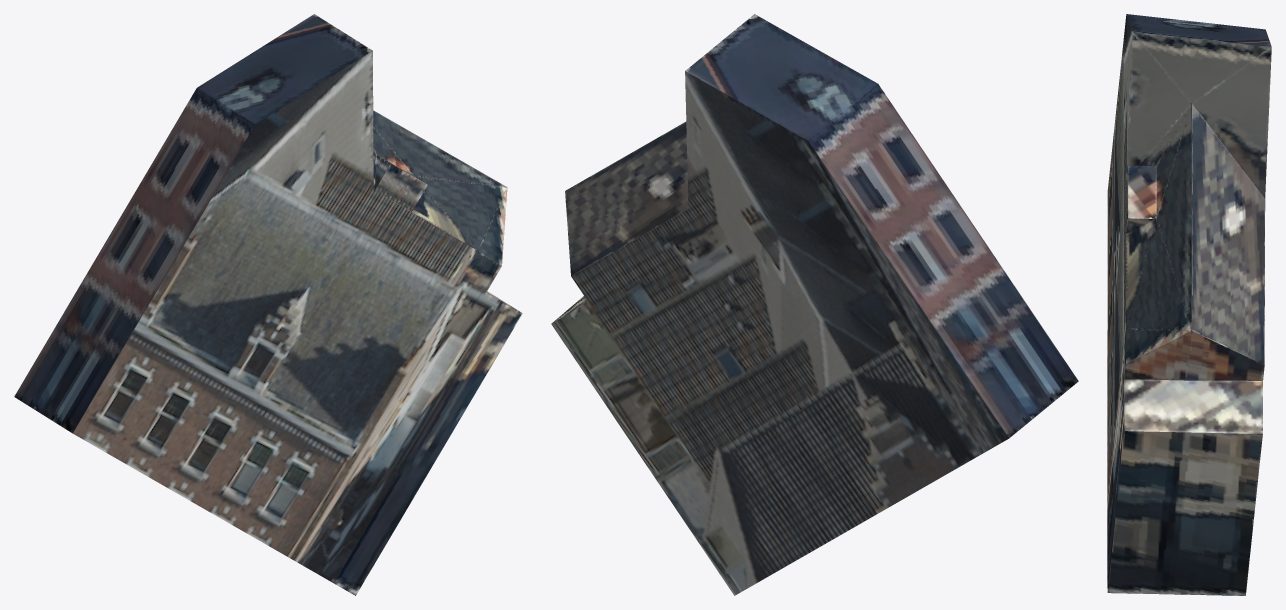
The picture shows the model from 3 angles, left to right: view 1: azimuth 30°, elevation 25°; view 2: azimuth 150°, elevation 25°; view 3: azimuth 270°, elevation 25°; orthographic projection. The views are drawn at different scales.
Parts seen in each view (by area): view 1: BAG_0599100000671729 (×4); view 2: BAG_0599100000671729 (×2); view 3: BAG_0599100000671729 (×4).
Boxes of the visible parts, x1,y1,x2,y2 form: BAG_0599100000671729 (×4): (14, 14, 522, 595); BAG_0599100000671729 (×2): (551, 14, 1078, 595); BAG_0599100000671729 (×4): (1107, 14, 1271, 595).
Size of the model in its own units: 21.11 by 22.76 by 5.84.
Materials: 5 (5 with a texture image).
